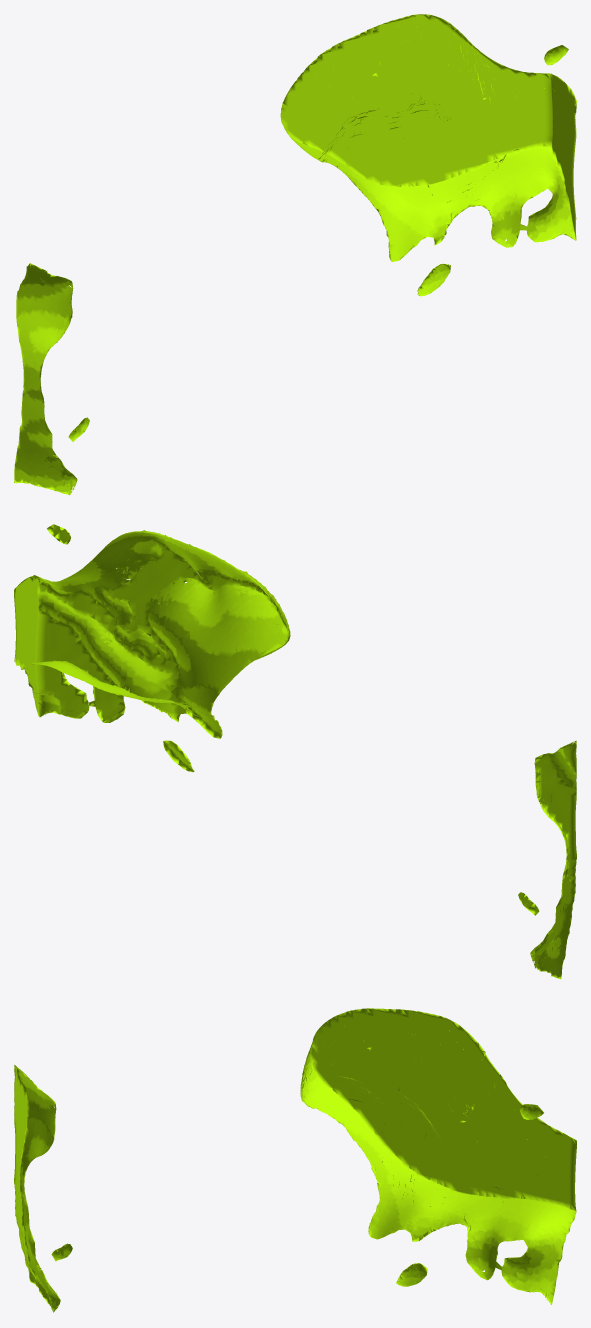
3 renders of one model, top to bottom at view 1: azimuth 30°, elevation 25°; view 2: azimuth 150°, elevation 25°; view 3: azimuth 330°, elevation 25°, orthographic.
Visible parts, largest first — view 1: Switch_Switch_osgPicked_gmeGeoEntityGeode_Geometry_Geometry_, Switch_Switch_osgPicked_gmeGeoEntityGeode_Geometry_0; view 2: Switch_Switch_osgPicked_gmeGeoEntityGeode_Geometry_Geometry_, Switch_Switch_osgPicked_gmeGeoEntityGeode_Geometry_0; view 3: Switch_Switch_osgPicked_gmeGeoEntityGeode_Geometry_Geometry_ (×2), Switch_Switch_osgPicked_gmeGeoEntityGeode_Geometry_0.
Part boxes in pixels (bbox=[...]): Switch_Switch_osgPicked_gmeGeoEntityGeode_Geometry_Geometry_: bbox=[280, 14, 576, 261]; Switch_Switch_osgPicked_gmeGeoEntityGeode_Geometry_0: bbox=[14, 263, 77, 495]; Switch_Switch_osgPicked_gmeGeoEntityGeode_Geometry_Geometry_: bbox=[14, 530, 290, 738]; Switch_Switch_osgPicked_gmeGeoEntityGeode_Geometry_0: bbox=[530, 740, 576, 979]; Switch_Switch_osgPicked_gmeGeoEntityGeode_Geometry_Geometry_ (×2): bbox=[300, 1008, 576, 1304]; Switch_Switch_osgPicked_gmeGeoEntityGeode_Geometry_0: bbox=[14, 1065, 60, 1312].
Size of what is drawn, in the model's own units: 38517 by 25131 by 3460.
